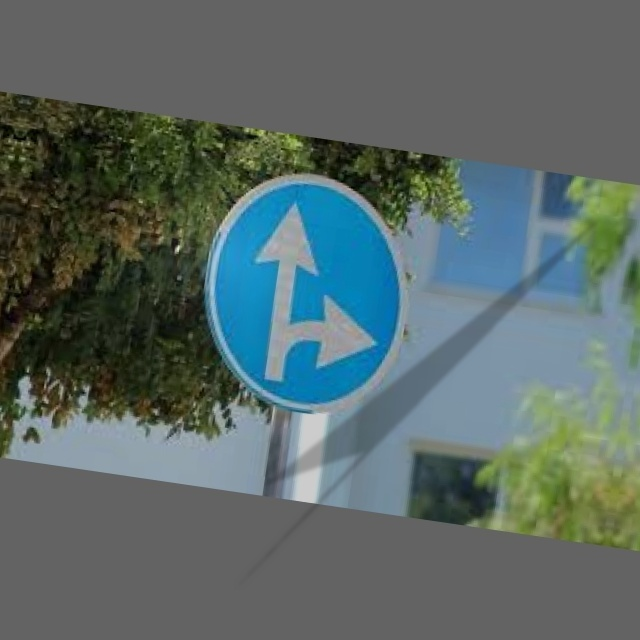Compulsory_Ahead_or_Turn_Right: (193, 162, 430, 427)
